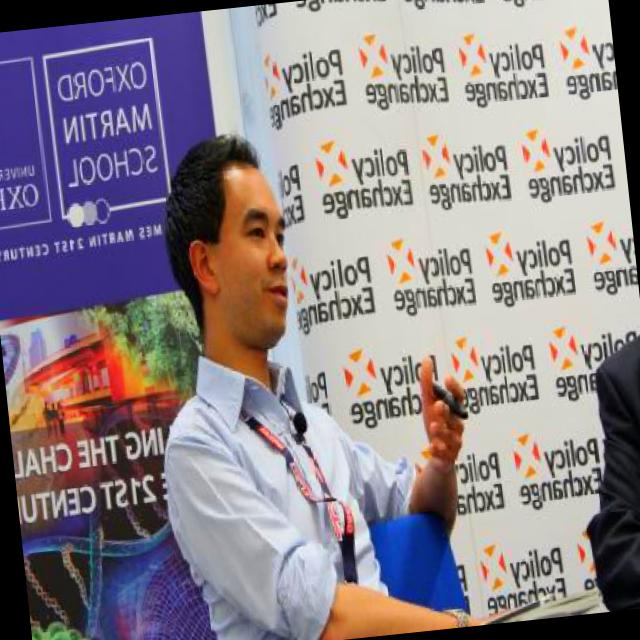Person: (120, 120, 449, 640), (563, 333, 640, 612)
